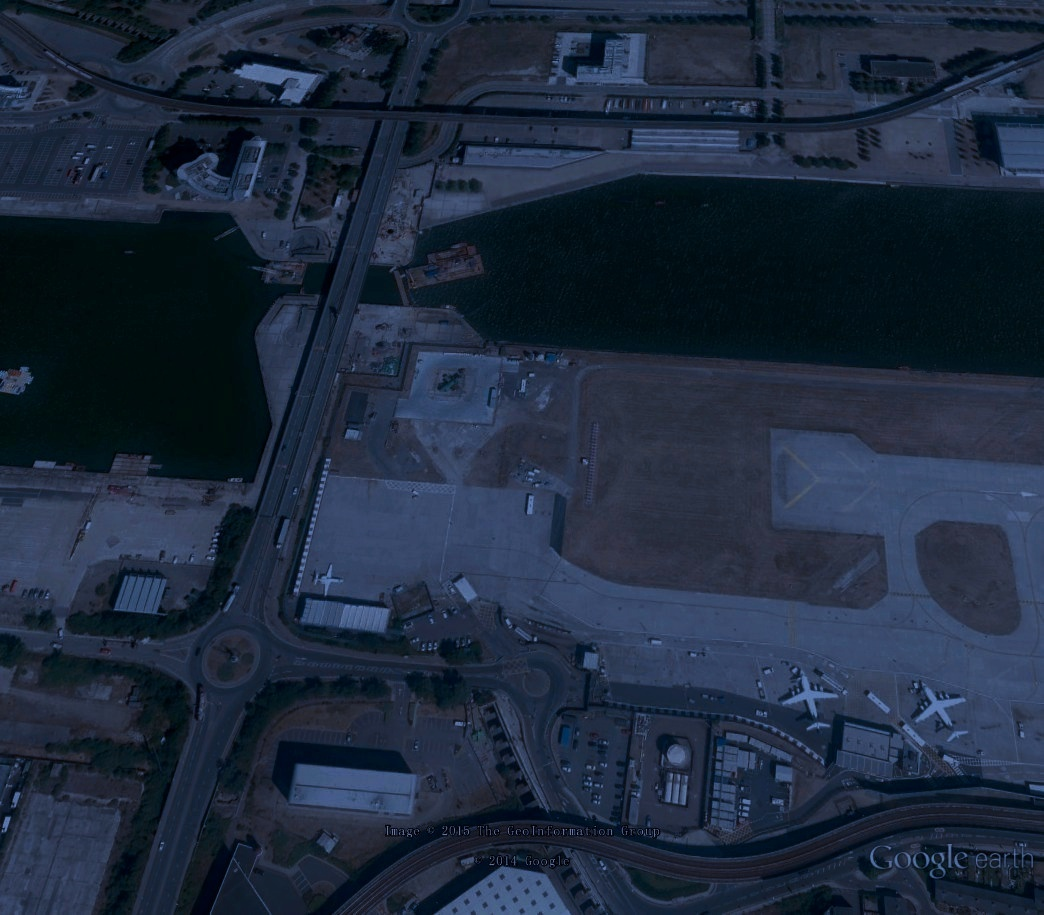aircraft: (777, 666, 847, 738), (906, 679, 973, 750), (310, 564, 346, 606)
